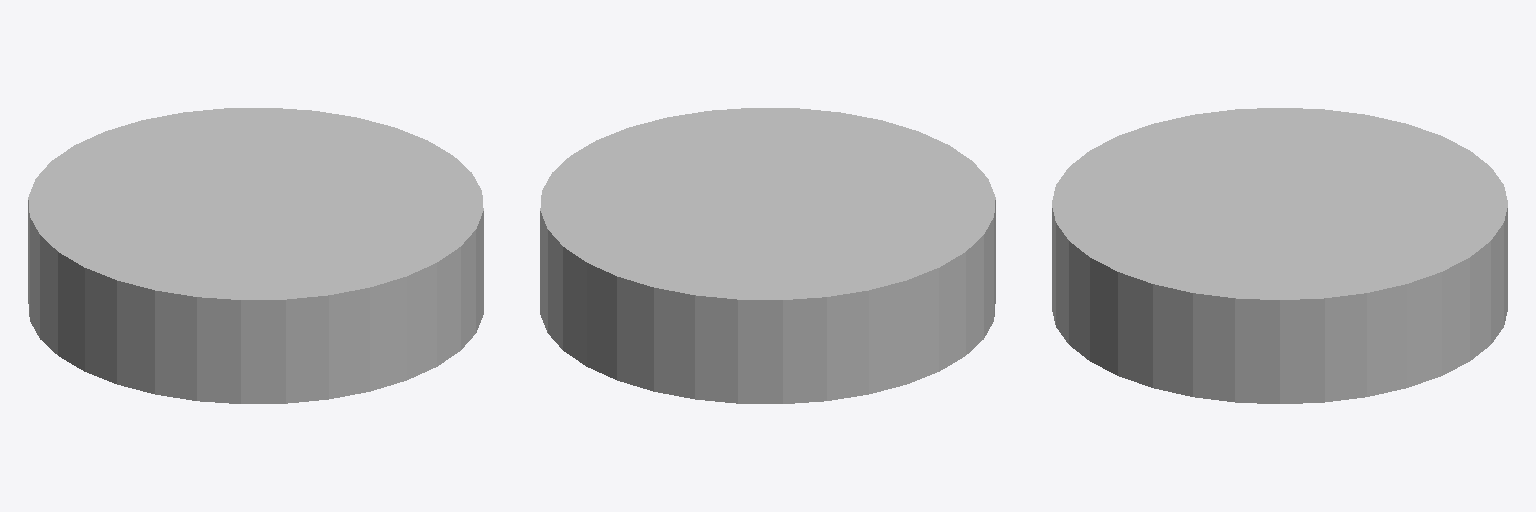
The model's file is coin.obj.
The picture shows the model from 3 angles: view 1: azimuth 30°, elevation 25°; view 2: azimuth 150°, elevation 25°; view 3: azimuth 270°, elevation 25°; orthographic projection.
Visible parts, largest first — view 1: Cylinder_Cylinder.002; view 2: Cylinder_Cylinder.002; view 3: Cylinder_Cylinder.002.
Boxes of the visible parts, box(x1,y1,x2,y2) form: Cylinder_Cylinder.002: box(28, 108, 483, 403); Cylinder_Cylinder.002: box(540, 108, 995, 403); Cylinder_Cylinder.002: box(1052, 108, 1507, 403).
Bounding box in the file's own units: 0.0781 × 0.0197 × 0.0782.